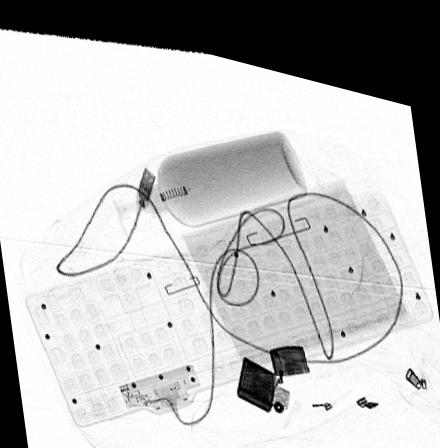Lighter: (236, 330, 311, 400)
